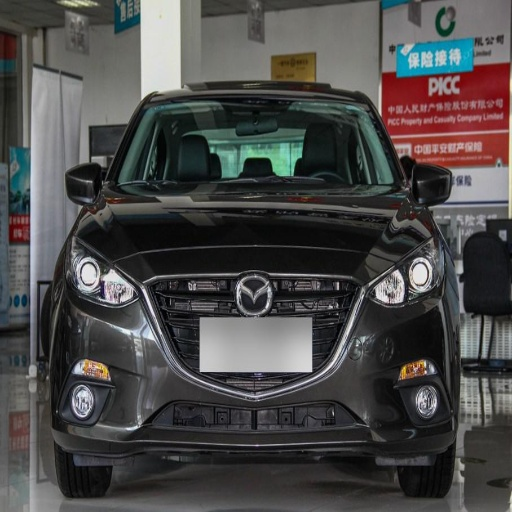back_bumper: (243, 101, 294, 160)
back_right_light: (53, 250, 455, 463)
front_bumper: (115, 102, 245, 185), (290, 108, 405, 193)
front_left_door: (363, 254, 441, 308)
front_right_door: (66, 235, 138, 307)
front_right_light: (90, 176, 430, 283)
hood: (414, 165, 450, 206)
left_mirror: (66, 161, 103, 205)
trunk: (57, 451, 113, 510), (396, 456, 455, 500)
